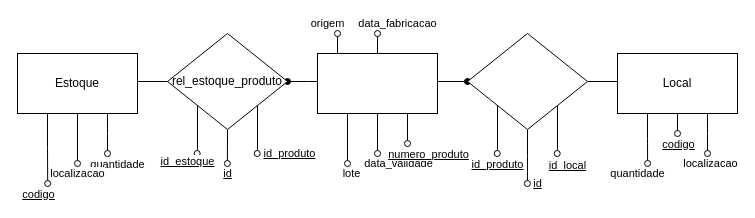
The diagram is 755 pixels wide and 218 high, and some of its shapes have lost their labels. Each missing label, with the centre of its shape:
Produto: the point at 377,83
rel_local_produto: the point at 527,81
